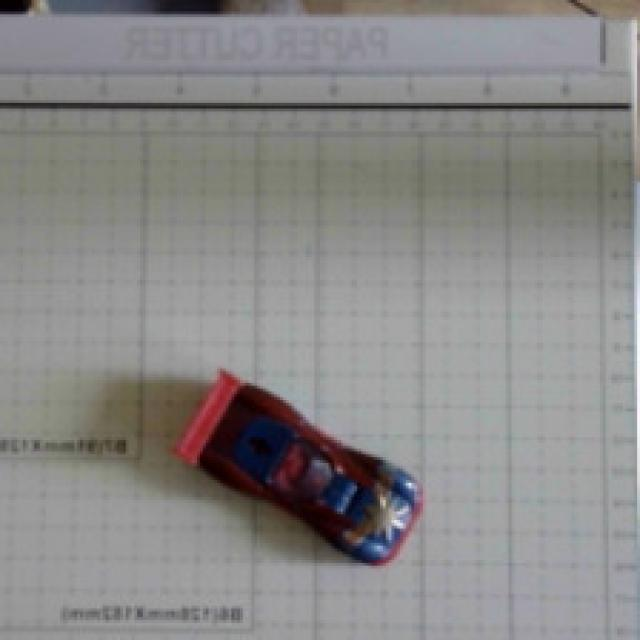Red Car: (144, 332, 463, 590)
